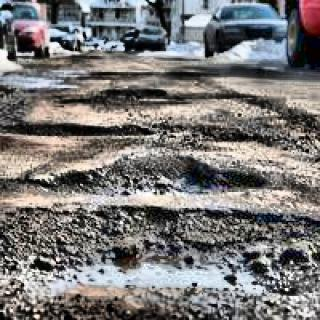pothole: (7, 200, 320, 306), (38, 145, 269, 201), (0, 116, 148, 140), (88, 83, 167, 103)
